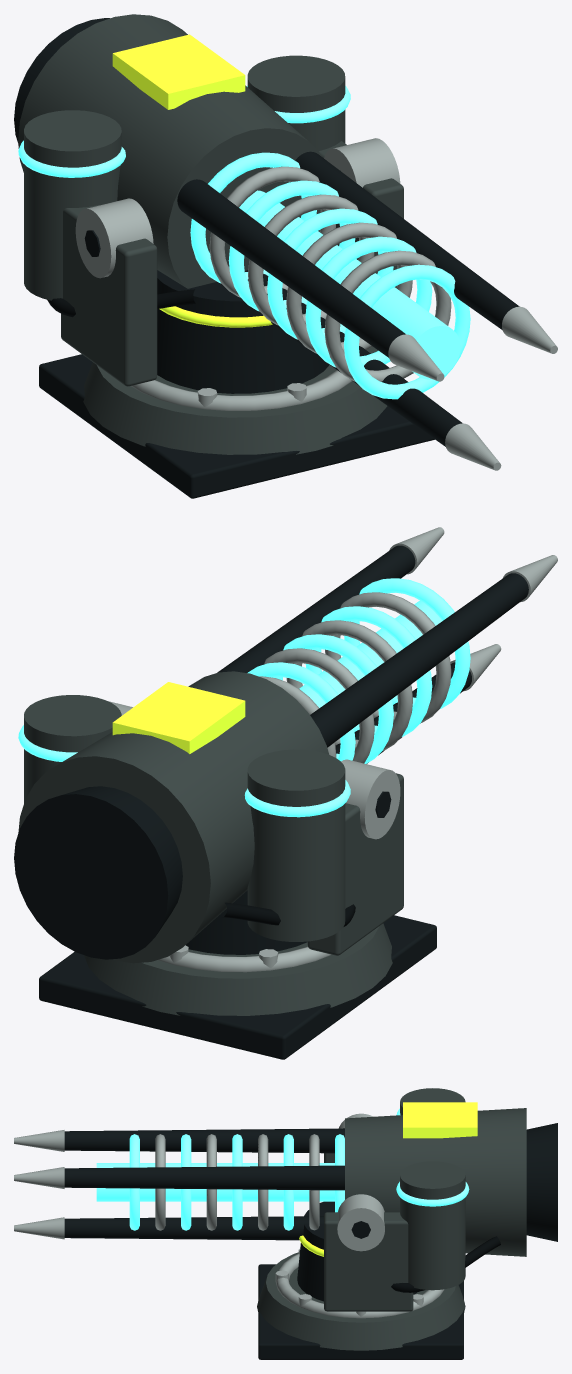
Rendered from pulse-projector.glb.
The picture shows the model from 3 angles, top to bottom: view 1: azimuth 30°, elevation 25°; view 2: azimuth 150°, elevation 25°; view 3: azimuth 270°, elevation 25°; orthographic projection. The views are drawn at different scales.
Visible parts, largest first — view 1: receiver__Cerakote_graphite_armor, focus-prongs__Recessed_carbon_mechanism, capacitors__Cerakote_graphite_armor, mount__Cerakote_graphite_armor, induction-rings__Ionized_cyan_core, cradle__Cerakote_graphite_armor, yaw-drive__Recessed_carbon_mechanism, mount__Recessed_carbon_mechanism, induction-rings__Machined_titanium, identification__Velocity_chartreuse_identification, trunnion__Machined_titanium, core__Ionized_cyan_core (+6 smaller); view 2: receiver__Cerakote_graphite_armor, receiver__Recessed_carbon_mechanism, capacitors__Cerakote_graphite_armor, mount__Cerakote_graphite_armor, focus-prongs__Recessed_carbon_mechanism, mount__Recessed_carbon_mechanism, induction-rings__Ionized_cyan_core, induction-rings__Machined_titanium, cradle__Cerakote_graphite_armor, identification__Velocity_chartreuse_identification, trunnion__Machined_titanium, yaw-drive__Recessed_carbon_mechanism (+5 smaller); view 3: focus-prongs__Recessed_carbon_mechanism, receiver__Cerakote_graphite_armor, capacitors__Cerakote_graphite_armor, mount__Cerakote_graphite_armor, cradle__Cerakote_graphite_armor, mount__Recessed_carbon_mechanism, induction-rings__Ionized_cyan_core, receiver__Recessed_carbon_mechanism, induction-rings__Machined_titanium, core__Ionized_cyan_core, identification__Velocity_chartreuse_identification, focus-prongs__Machined_titanium (+6 smaller).
Part boxes in pixels (x1,y1,x2,y2): receiver__Cerakote_graphite_armor: (18,14,321,288); focus-prongs__Recessed_carbon_mechanism: (177,151,519,446); capacitors__Cerakote_graphite_armor: (24,55,345,300); mount__Cerakote_graphite_armor: (83,346,387,454); induction-rings__Ionized_cyan_core: (190,152,470,399); cradle__Cerakote_graphite_armor: (61,141,403,386); yaw-drive__Recessed_carbon_mechanism: (157,270,329,393); mount__Recessed_carbon_mechanism: (39,354,434,498); induction-rings__Machined_titanium: (209,166,451,381); identification__Velocity_chartreuse_identification: (112,34,245,109); trunnion__Machined_titanium: (75,138,400,278); core__Ionized_cyan_core: (239,190,460,379); receiver__Cerakote_graphite_armor: (18,671,328,963); receiver__Recessed_carbon_mechanism: (14,786,182,959); capacitors__Cerakote_graphite_armor: (24,695,345,941); mount__Cerakote_graphite_armor: (84,923,392,1015); focus-prongs__Recessed_carbon_mechanism: (217,545,528,763); mount__Recessed_carbon_mechanism: (39,915,436,1059); induction-rings__Ionized_cyan_core: (247,578,470,763); induction-rings__Machined_titanium: (259,592,451,763); cradle__Cerakote_graphite_armor: (307,773,403,955); identification__Velocity_chartreuse_identification: (112,682,245,753); trunnion__Machined_titanium: (108,701,400,839); yaw-drive__Recessed_carbon_mechanism: (186,890,307,954); focus-prongs__Recessed_carbon_mechanism: (64,1128,344,1240); receiver__Cerakote_graphite_armor: (345,1108,526,1256); capacitors__Cerakote_graphite_armor: (400,1088,465,1290); mount__Cerakote_graphite_armor: (257,1252,465,1350); cradle__Cerakote_graphite_armor: (324,1153,413,1311); mount__Recessed_carbon_mechanism: (258,1264,463,1359); induction-rings__Ionized_cyan_core: (129,1134,344,1230); receiver__Recessed_carbon_mechanism: (526,1123,557,1241); induction-rings__Machined_titanium: (155,1134,319,1230); core__Ionized_cyan_core: (96,1163,334,1201); identification__Velocity_chartreuse_identification: (403,1102,477,1138); focus-prongs__Machined_titanium: (14,1130,64,1239).
Bounding box in the file's own units: 1.65 × 1.52 × 3.65.
